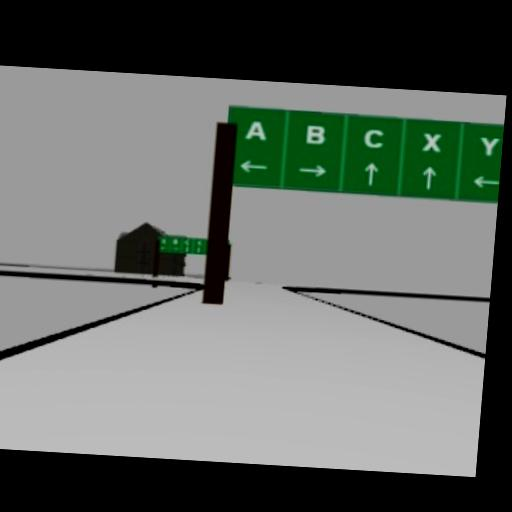A: (244, 118, 269, 143)
B: (303, 123, 330, 148)
C: (363, 127, 388, 151)
Left: (239, 157, 270, 176), (471, 173, 500, 190)
Right: (298, 161, 329, 179)
Straight: (419, 165, 440, 193), (362, 160, 381, 189)
X: (421, 130, 444, 154)
Y: (477, 135, 501, 160)
